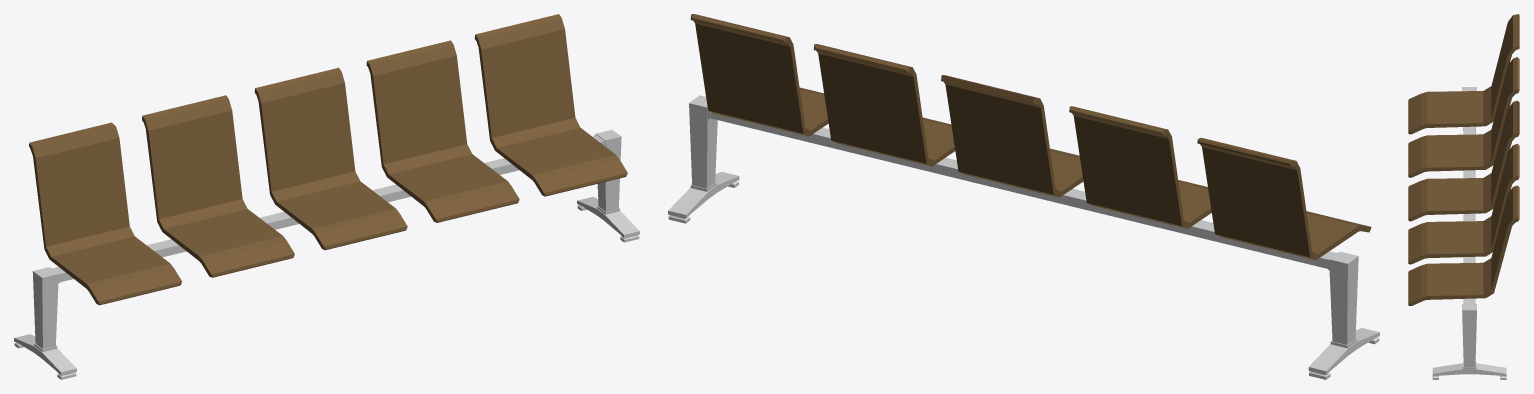
The model's file is waiting_chair.fbx.
The picture shows the model from 3 angles, left to right: view 1: azimuth 30°, elevation 25°; view 2: azimuth 150°, elevation 25°; view 3: azimuth 270°, elevation 25°; orthographic projection. The views are drawn at different scales.
Visible parts, largest first — view 1: H_Chair_Clients; view 2: H_Chair_Clients; view 3: H_Chair_Clients.
Boxes of the visible parts, x1,y1,x2,y2 form: H_Chair_Clients: (14,14,639,379); H_Chair_Clients: (668,14,1379,379); H_Chair_Clients: (1408,14,1519,379).
Bounding box in the file's own units: 1827 × 386 × 579.
